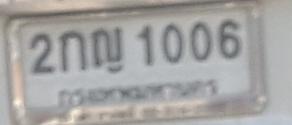num2: (26, 32, 56, 76)
txt01: (57, 30, 88, 75)
txt10: (89, 25, 125, 76)
